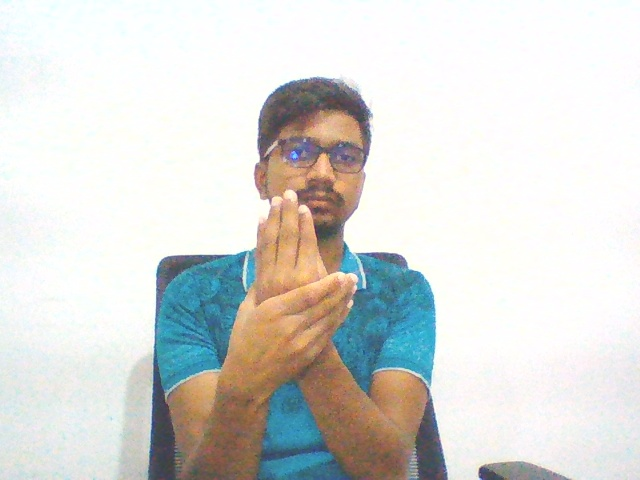tree: (224, 184, 366, 407)
